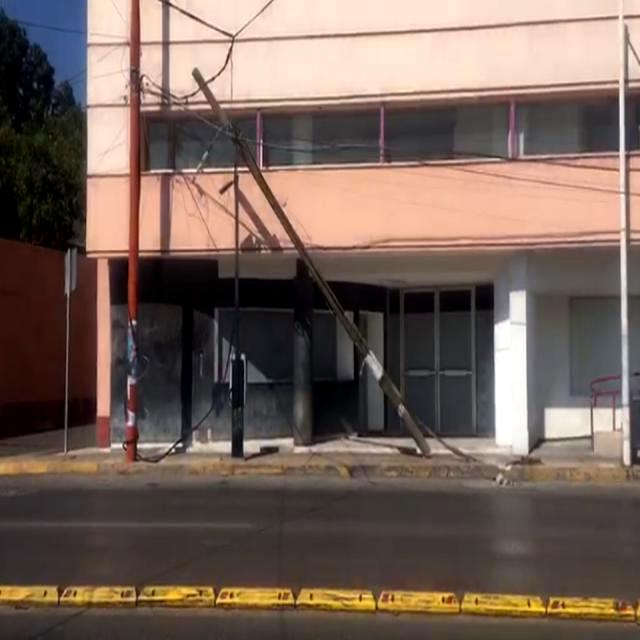Broken Pole: (191, 65, 431, 458)
